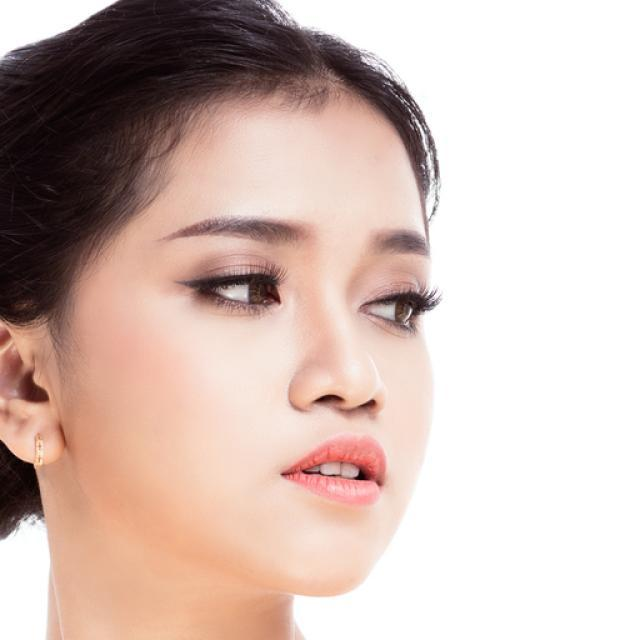neutral: (86, 91, 435, 604)
